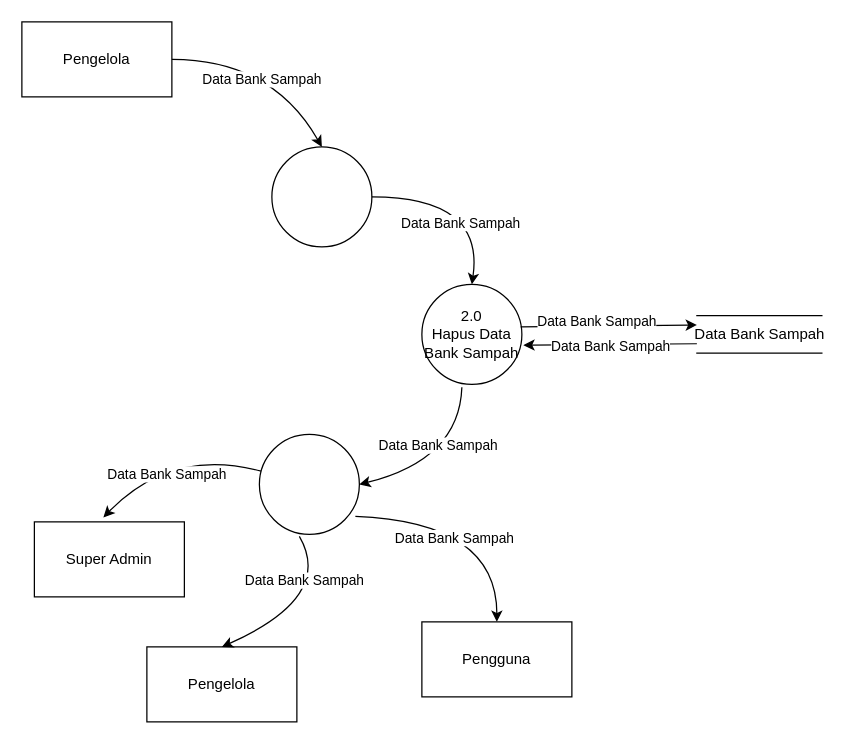
Some shapes in this 846 by 744 pixel diagram are drawn without their labels. Here are the shapes that lost their labels. From the top down, the centre of each, then its label:
At (321,196): "1.0 Input data bank sampah".
At (308,483): "3.0 Menampilkan data bank sampah".
